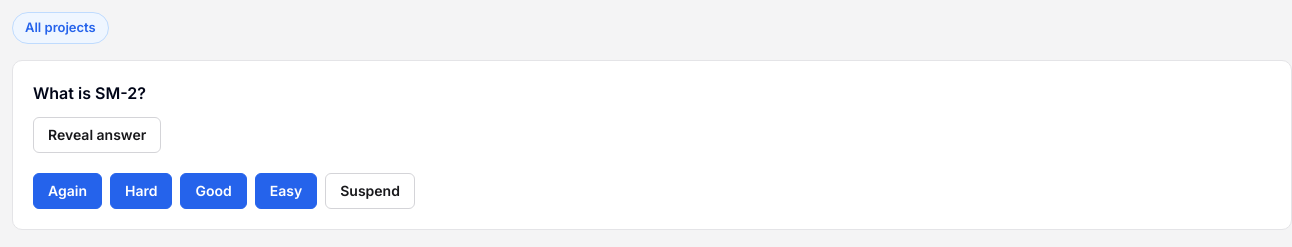
Scenario: ReviewRunner › reloads the queue on 409 conflict
Expected: the heading "What is SM-2?" is shown, [33,83,146,103]
What coordinates should you click on to do the following:
click the button "Good"
I would click on:
 (214, 191)
Its box is [180,173,247,209].
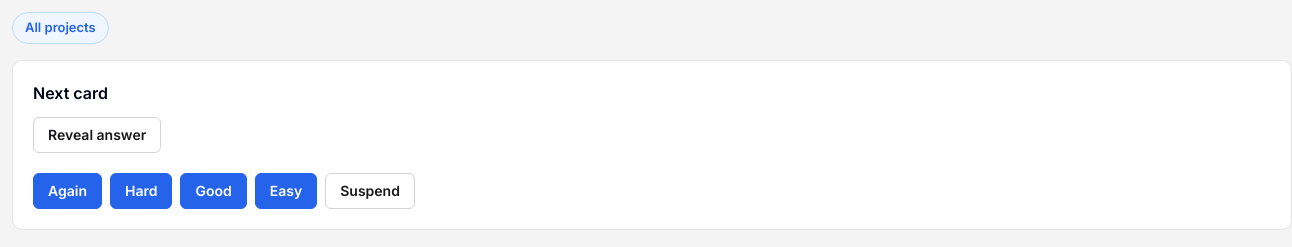
Expected: the heading "Next card" is shown, [33,83,108,103]
